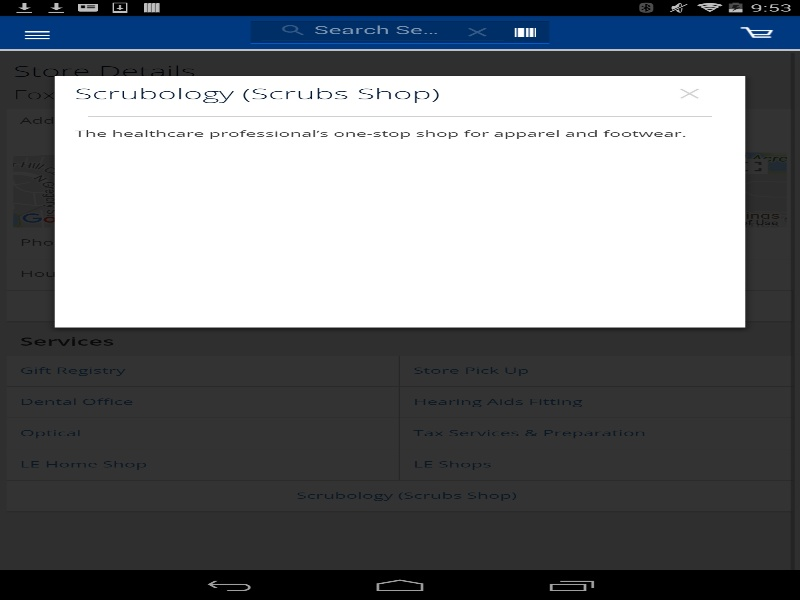Button: (13, 152, 786, 227), (6, 290, 793, 323), (6, 480, 793, 511), (217, 115, 769, 138), (6, 386, 400, 418), (400, 386, 793, 418), (6, 355, 400, 386), (6, 418, 400, 449), (6, 449, 400, 480), (400, 355, 793, 386), (400, 418, 793, 449), (400, 449, 793, 480), (217, 267, 769, 279), (0, 18, 74, 52), (673, 86, 706, 101)
Input: (261, 17, 450, 40)
